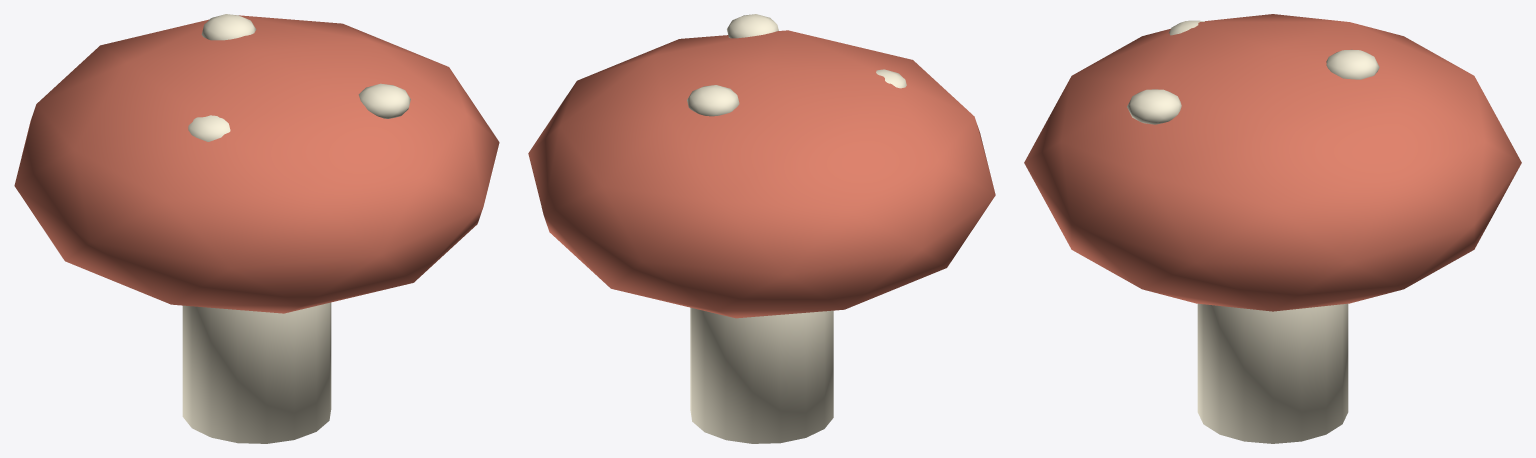
Rendered from quest-mushroom-red.glb.
3 views of the same model, side by side, from view 1: azimuth 30°, elevation 25°; view 2: azimuth 150°, elevation 25°; view 3: azimuth 270°, elevation 25° (orthographic). The views are drawn at different scales.
Parts seen in each view (by area): view 1: Mushroom cap, quest-mushroom-red_Quest ivory; view 2: Mushroom cap, quest-mushroom-red_Quest ivory; view 3: Mushroom cap, quest-mushroom-red_Quest ivory.
Boxes of the visible parts, <box> form: Mushroom cap: <box>14,15,499,313</box>; quest-mushroom-red_Quest ivory: <box>182,14,410,443</box>; Mushroom cap: <box>528,30,995,318</box>; quest-mushroom-red_Quest ivory: <box>687,14,906,443</box>; Mushroom cap: <box>1024,14,1521,311</box>; quest-mushroom-red_Quest ivory: <box>1127,20,1379,443</box>.
Bounding box in the file's own units: 0.7228 × 0.614 × 0.76.
